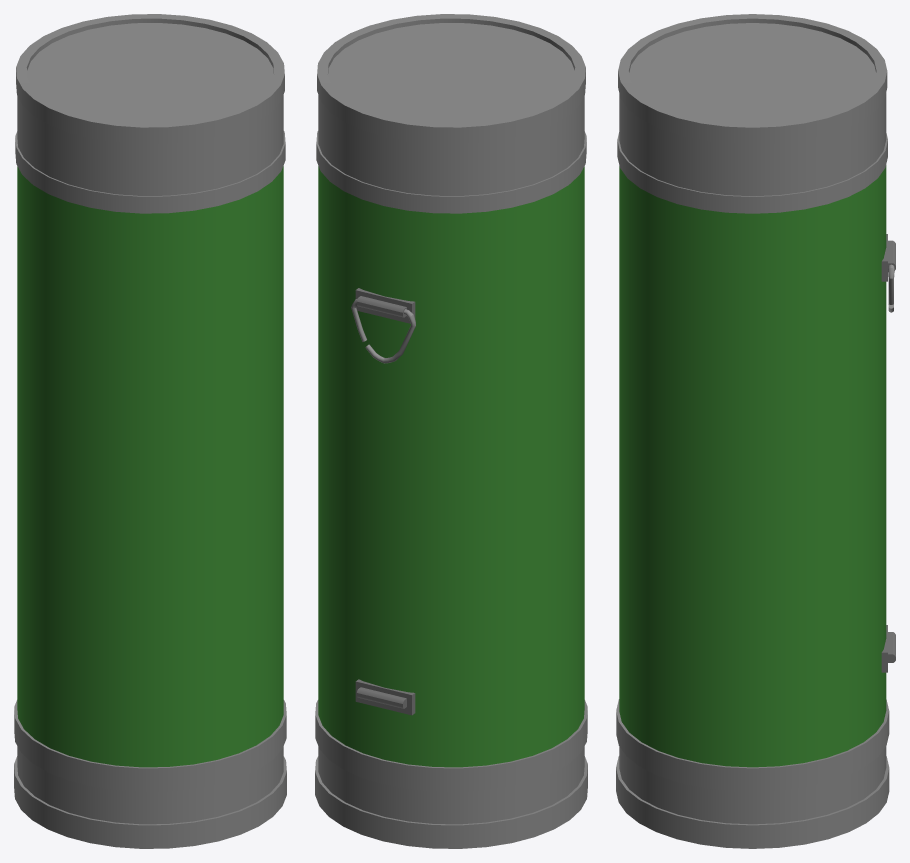
File: rocketBody.fbx
3 views of the same model, side by side, from view 1: azimuth 30°, elevation 25°; view 2: azimuth 150°, elevation 25°; view 3: azimuth 270°, elevation 25° (orthographic).
Parts seen in each view (by area): view 1: Rocket Body; view 2: Rocket Body; view 3: Rocket Body.
Part boxes in pixels (left/top/right/bottom): Rocket Body: left=14, top=14, right=286, bottom=848; Rocket Body: left=315, top=14, right=587, bottom=848; Rocket Body: left=616, top=14, right=895, bottom=848.
Size of the model in its own units: 301 by 876 by 309.
